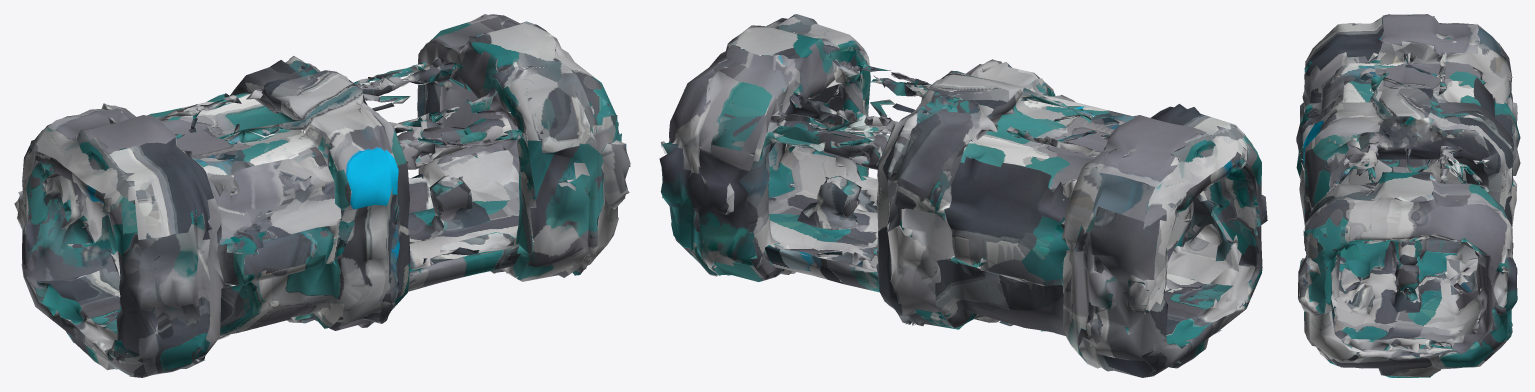
Rendered from SM_MaintenanceBay_tex1.fbx.
The picture shows the model from 3 angles, left to right: view 1: azimuth 30°, elevation 25°; view 2: azimuth 150°, elevation 25°; view 3: azimuth 270°, elevation 25°; orthographic projection. The views are drawn at different scales.
Visible parts, largest first — view 1: SMT_MaintenanceBay; view 2: SMT_MaintenanceBay; view 3: SMT_MaintenanceBay.
Boxes of the visible parts, bbox=[...] form: SMT_MaintenanceBay: bbox=[14, 14, 630, 377]; SMT_MaintenanceBay: bbox=[659, 14, 1267, 377]; SMT_MaintenanceBay: bbox=[1296, 14, 1520, 377].
Size of the model in its own units: 1.95 by 0.8241 by 0.9084.
